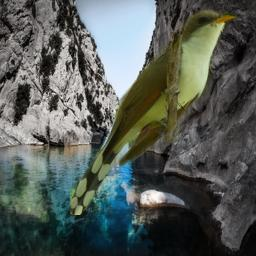Cuckoo: (70, 10, 237, 215)
